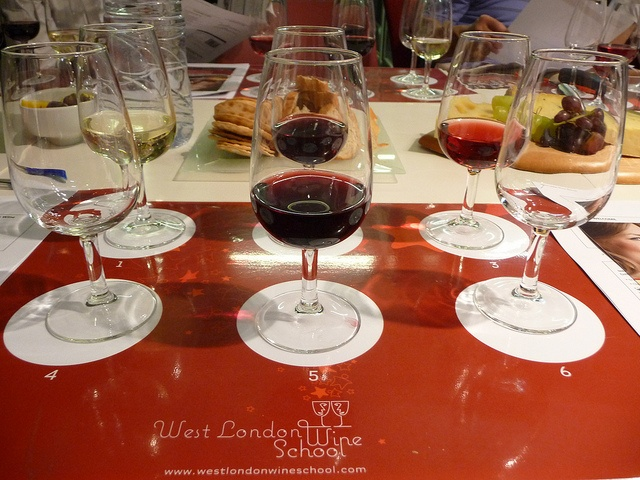bowl: (19, 87, 118, 232)
